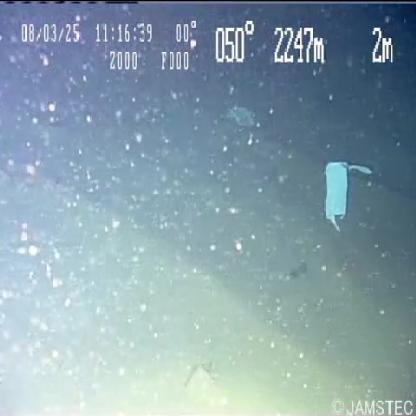Rác: (324, 162, 349, 221)
